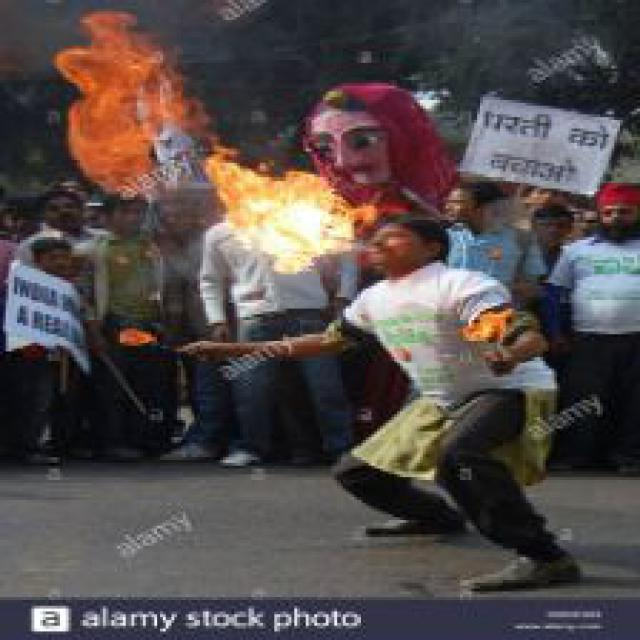fire: (40, 3, 231, 183), (191, 146, 366, 283)
